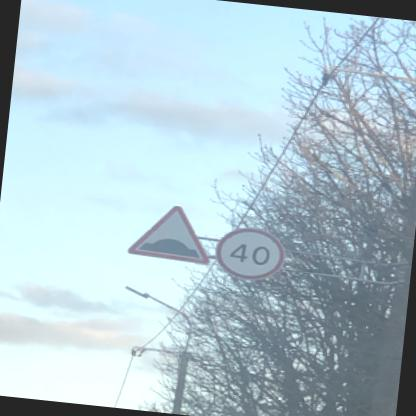speedlimit: (210, 224, 284, 282)
